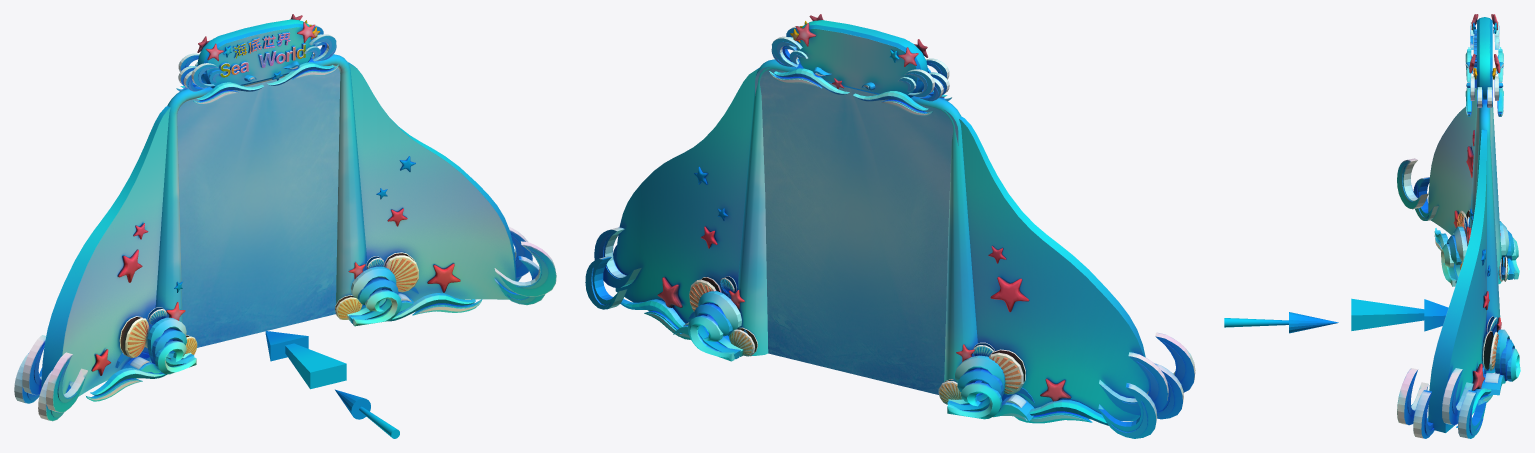
Rendered from seaGate-v2.FBX.
The picture shows the model from 3 angles, left to right: view 1: azimuth 30°, elevation 25°; view 2: azimuth 150°, elevation 25°; view 3: azimuth 270°, elevation 25°; orthographic projection. The views are drawn at different scales.
Parts seen in each view (by area): view 1: Door-02, Door-03, Door-01, Door-04, Door-05; view 2: Door-02, Door-03, Door-01; view 3: Door-02, Door-01, Door-04, Door-05.
Part boxes in pixels (x1,y1,x2,y2): Door-02: (14, 62, 556, 421); Door-03: (167, 66, 340, 347); Door-01: (115, 14, 418, 379); Door-04: (265, 331, 346, 389); Door-05: (335, 389, 399, 438); Door-02: (585, 68, 1195, 438); Door-03: (755, 67, 958, 394); Door-01: (673, 14, 1034, 420); Door-02: (1397, 88, 1498, 438); Door-01: (1441, 14, 1520, 395); Door-04: (1351, 298, 1448, 331); Door-05: (1224, 312, 1338, 333).
Size of the model in its own units: 4.28 by 2.28 by 2.53.
